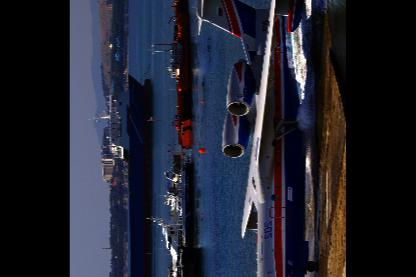B52: (191, 0, 316, 276)
